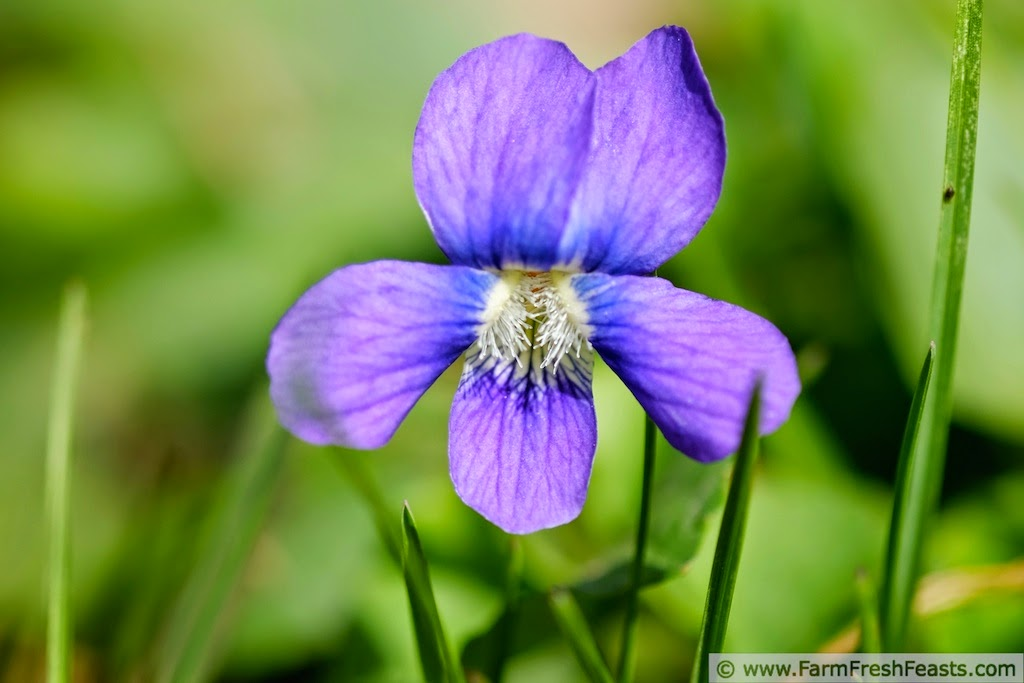violet: (276, 23, 803, 545)
